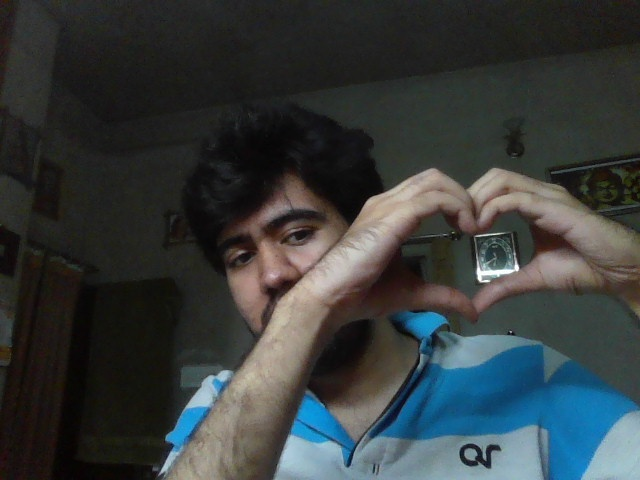Love: (331, 167, 635, 324)
